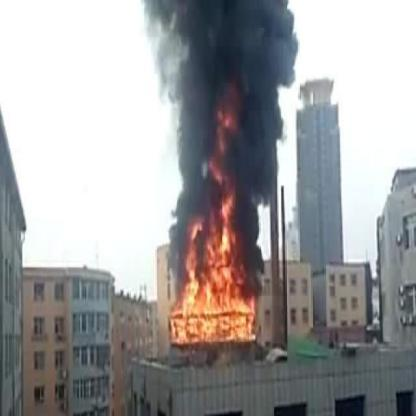Fire: (166, 77, 262, 348)
